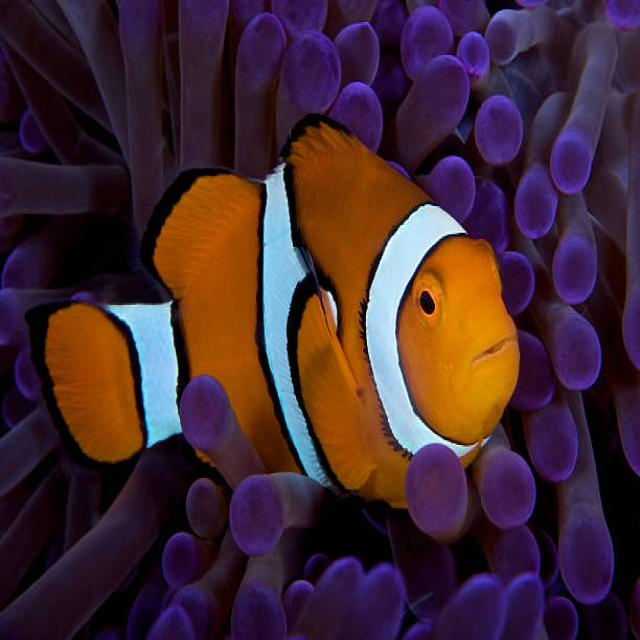ClownFish: (31, 112, 520, 510)
